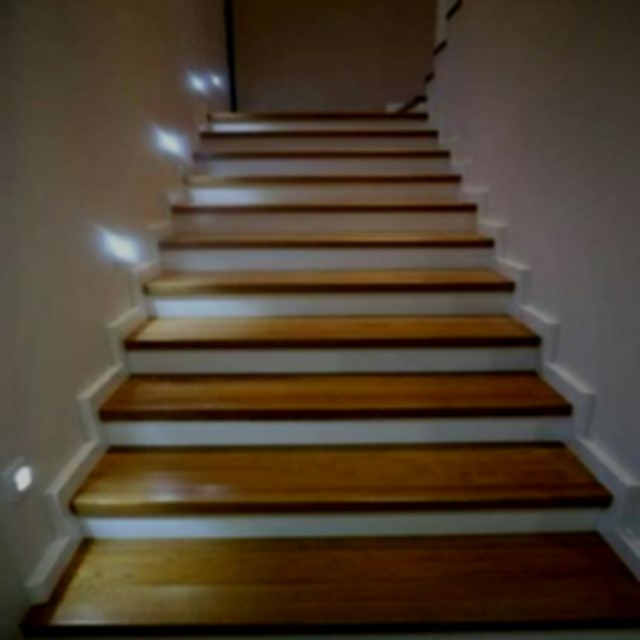stair: (2, 48, 638, 638)
